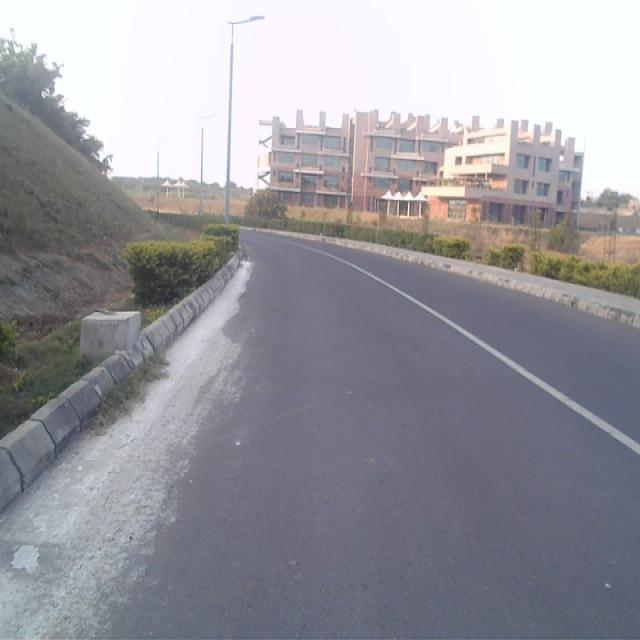lane: (0, 238, 640, 640)
